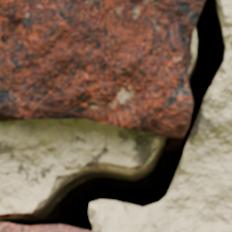brick: (0, 0, 204, 136), (0, 224, 83, 231)
crack: (0, 0, 231, 231)
